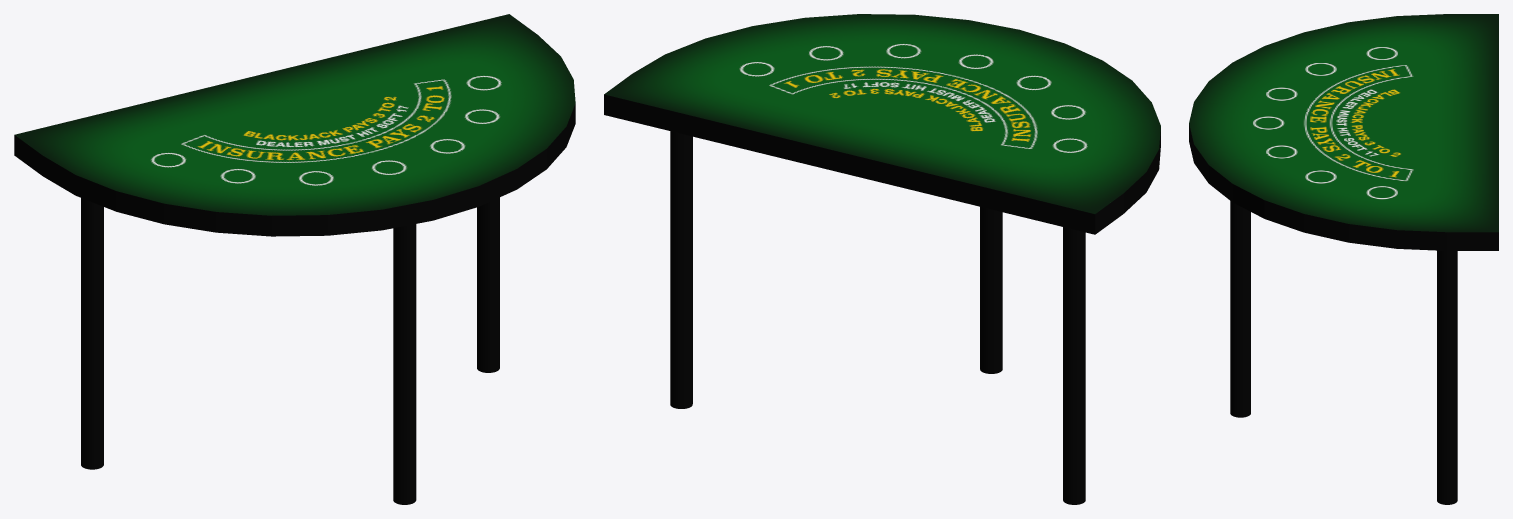
The model's file is blackjackTable.fbx.
The picture shows the model from 3 angles, left to right: view 1: azimuth 30°, elevation 25°; view 2: azimuth 150°, elevation 25°; view 3: azimuth 270°, elevation 25°; orthographic projection. The views are drawn at different scales.
Visible parts, largest first — view 1: tableTop, frontLeg, rightLeft, leftLeg; view 2: tableTop, rightLeft, leftLeg, frontLeg; view 3: tableTop, leftLeg, frontLeg.
Boxes of the visible parts, x1,y1,x2,y2 form: tableTop: (14, 14, 575, 236); frontLeg: (393, 224, 416, 504); rightLeft: (81, 198, 103, 469); leftLeg: (477, 197, 499, 372); tableTop: (604, 14, 1160, 234); rightLeft: (1063, 227, 1085, 504); leftLeg: (670, 131, 692, 408); frontLeg: (980, 207, 1002, 373); tableTop: (1189, 14, 1498, 250); leftLeg: (1437, 250, 1457, 504); frontLeg: (1230, 201, 1250, 417).
Size of the model in its own units: 1000 by 620 by 600.
